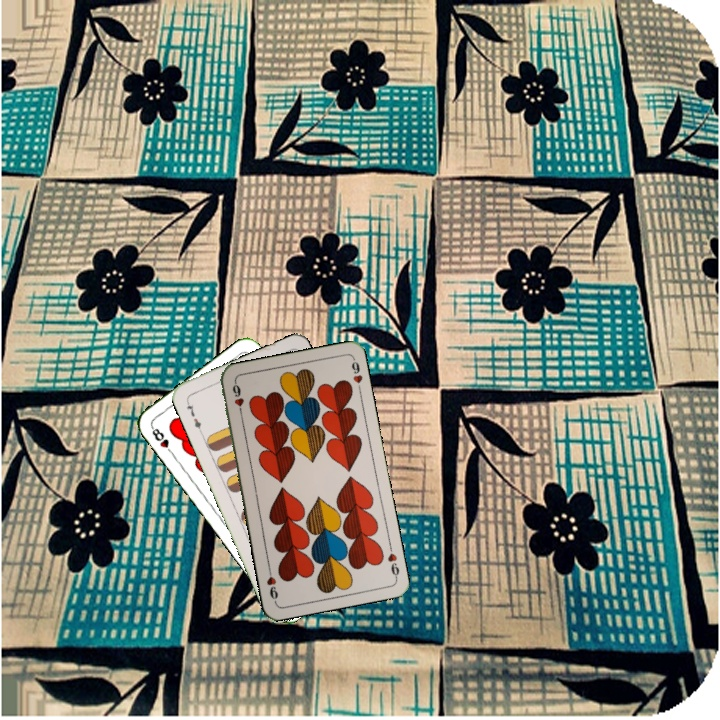E7: (182, 396, 204, 435)
H8: (147, 422, 176, 458)
H9: (228, 378, 246, 419), (384, 540, 402, 581)
